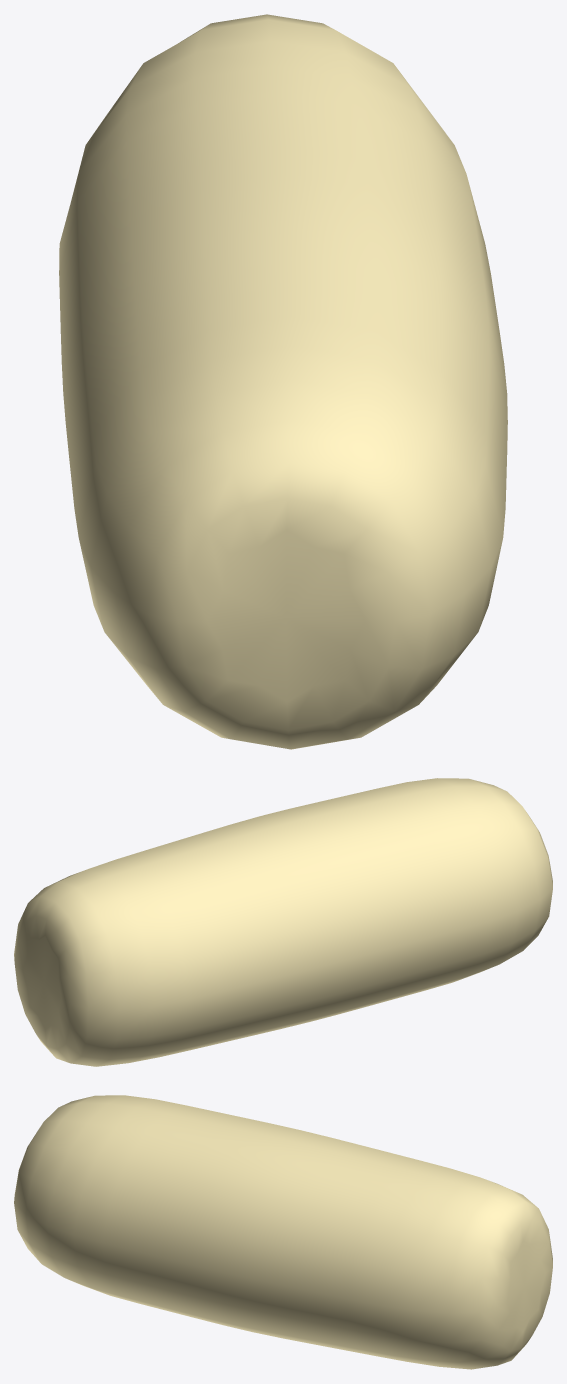
File: Candypowder_A_01.fbx
3 views of the same model, one above another, from view 1: azimuth 30°, elevation 25°; view 2: azimuth 150°, elevation 25°; view 3: azimuth 270°, elevation 25° (orthographic). The views are drawn at different scales.
Visible parts, largest first — view 1: Candypowder_A_01_LOD0; view 2: Candypowder_A_01_LOD0; view 3: Candypowder_A_01_LOD0.
Part boxes in pixels (box(x1,y1,x2,y2)): Candypowder_A_01_LOD0: box(59, 14, 507, 749); Candypowder_A_01_LOD0: box(14, 778, 552, 1066); Candypowder_A_01_LOD0: box(14, 1095, 552, 1369).
Size of what is drawn, in the model's own units: 386 by 206 by 540.
